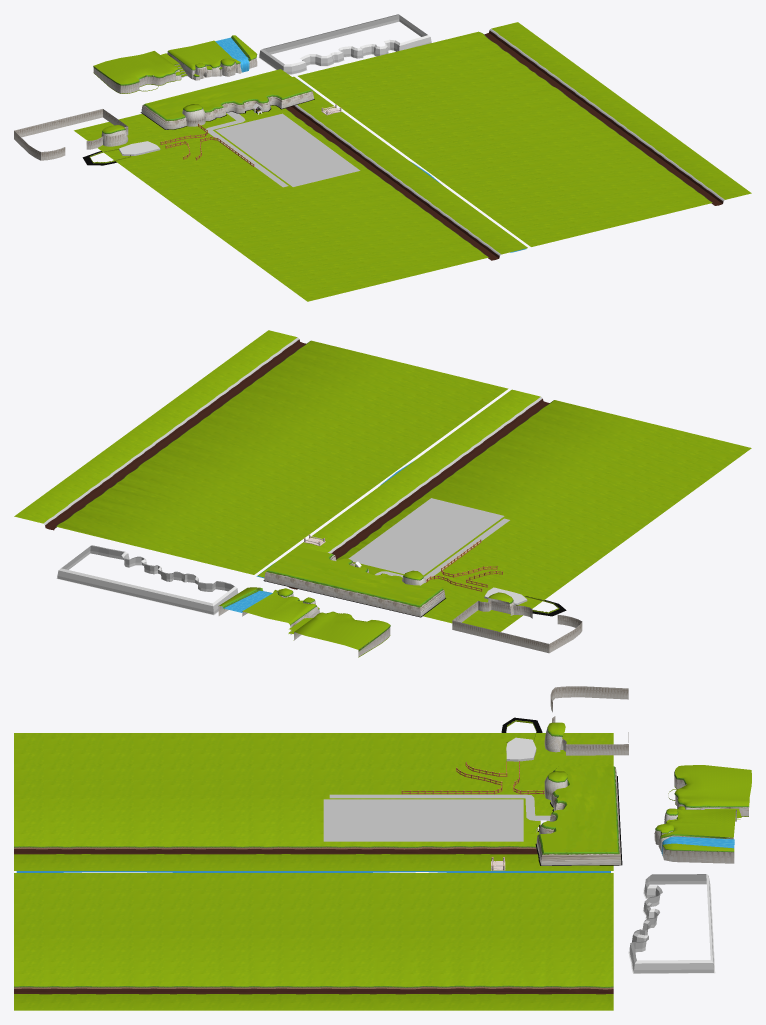
File: MainFarm.FBX
The picture shows the model from 3 angles, top to bottom: view 1: azimuth 30°, elevation 25°; view 2: azimuth 150°, elevation 25°; view 3: azimuth 270°, elevation 25°; orthographic projection. The views are drawn at different scales.
Parts seen in each view (by area): view 1: Ground001, Ground, Mountain, MainFarmLand, Line006, Line007, Line001, Path, Fense, Object002; view 2: Ground001, Ground, Line006, MainFarmLand, Mountain, Line007, Line001, Fense, Path; view 3: Ground001, Ground, MainFarmLand, Mountain, Line006, Line007, Line001, Path, RiverWater, Fense, Line004.
Part boxes in pixels (x1,y1,x2,y2): Ground001: (298,22,751,246); Ground: (74,76,527,301); Mountain: (93,35,257,93); MainFarmLand: (215,113,360,186); Line006: (140,69,314,129); Line007: (258,14,431,74); Line001: (14,109,128,160); Path: (205,112,288,187); Fense: (160,123,254,166); Object002: (101,125,128,146); Ground001: (14,330,508,574); Ground: (257,389,751,631); Line006: (263,547,445,617); MainFarmLand: (348,498,504,575); Mountain: (218,587,390,657); Line007: (56,545,238,615); Line001: (452,600,582,653); Fense: (426,539,502,591); Path: (375,518,509,581); Ground001: (14,873,613,1010); Ground: (14,733,613,870); MainFarmLand: (323,799,523,841); Mountain: (654,765,751,863); Line006: (535,766,622,865); Line007: (628,874,715,973); Line001: (550,686,628,755); Path: (329,794,550,820); RiverWater: (16,871,610,872); Fense: (401,761,544,794); Line004: (506,737,536,761).
Size of what is drawn, in the model's own units: 14615 by 685 by 14539.
